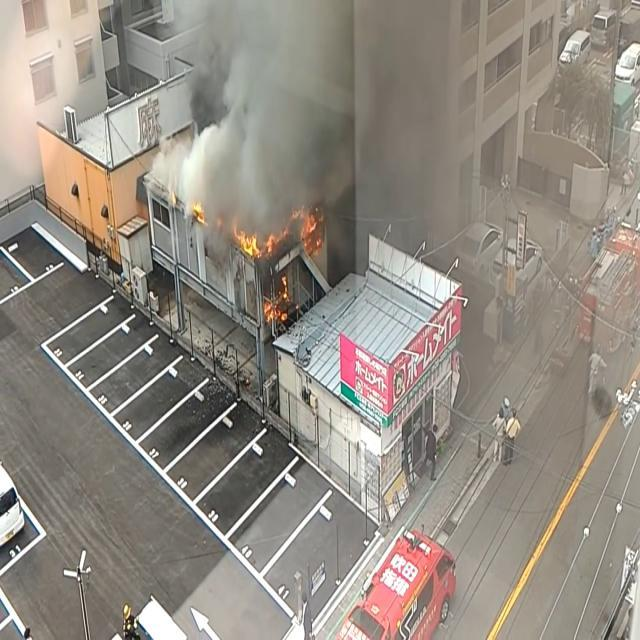Fire: (232, 204, 326, 279), (233, 223, 273, 265)
Smoke: (168, 1, 492, 254), (169, 0, 355, 252)
